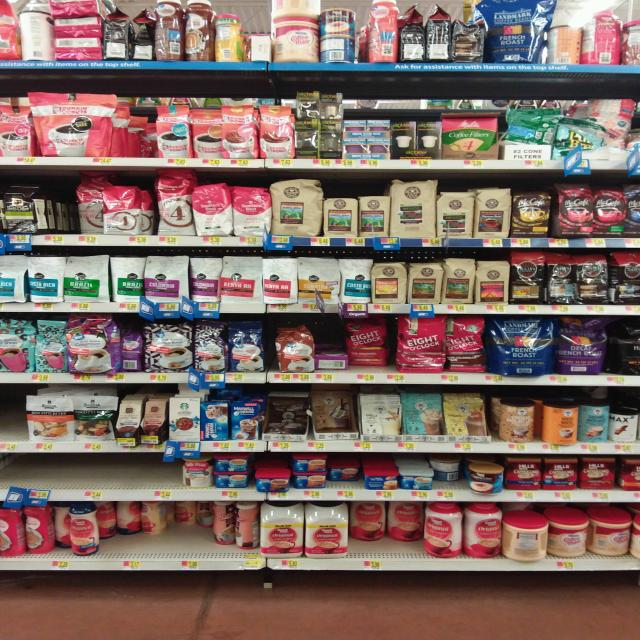empty: (1, 453, 185, 494), (1, 386, 28, 444)
